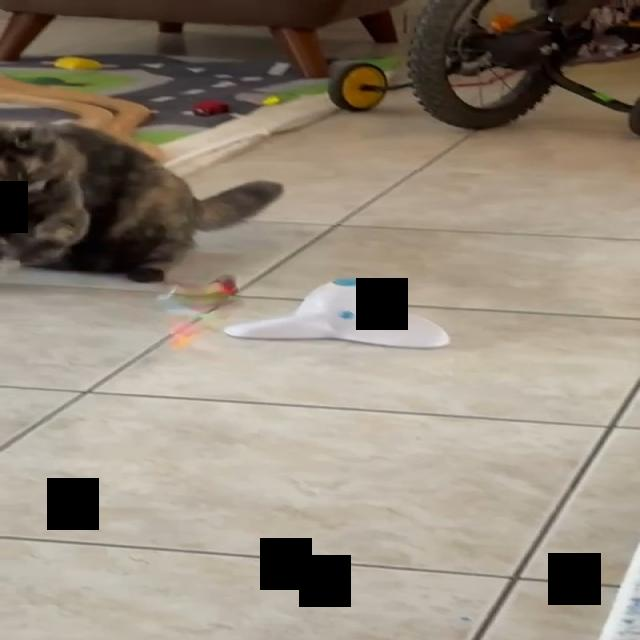authorized: (0, 120, 284, 283)
